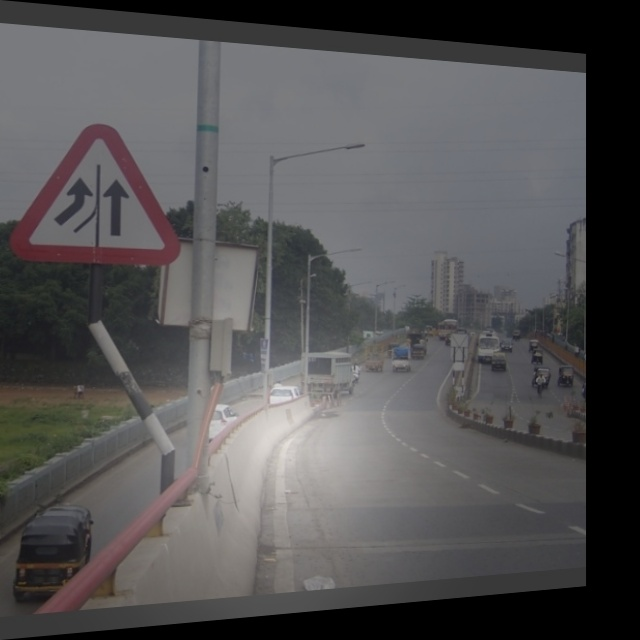Merge_Traffic_Ahead: (30, 108, 159, 274)
